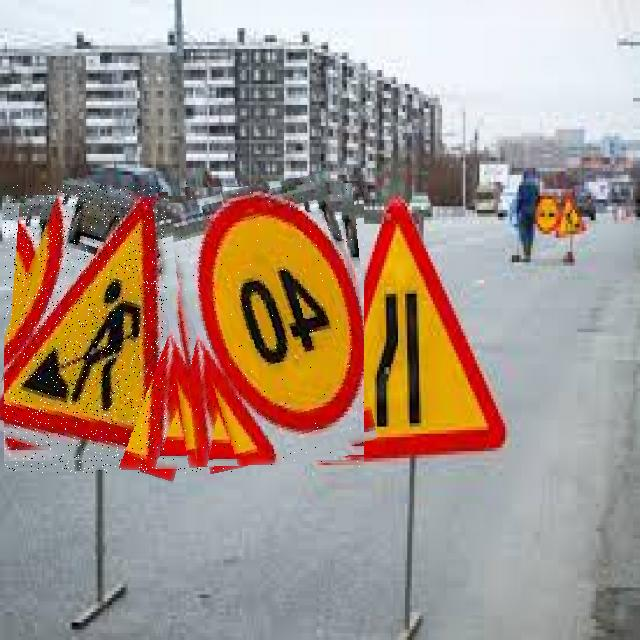roadwork: (4, 185, 232, 473)
speed limit 40: (167, 181, 364, 467)
